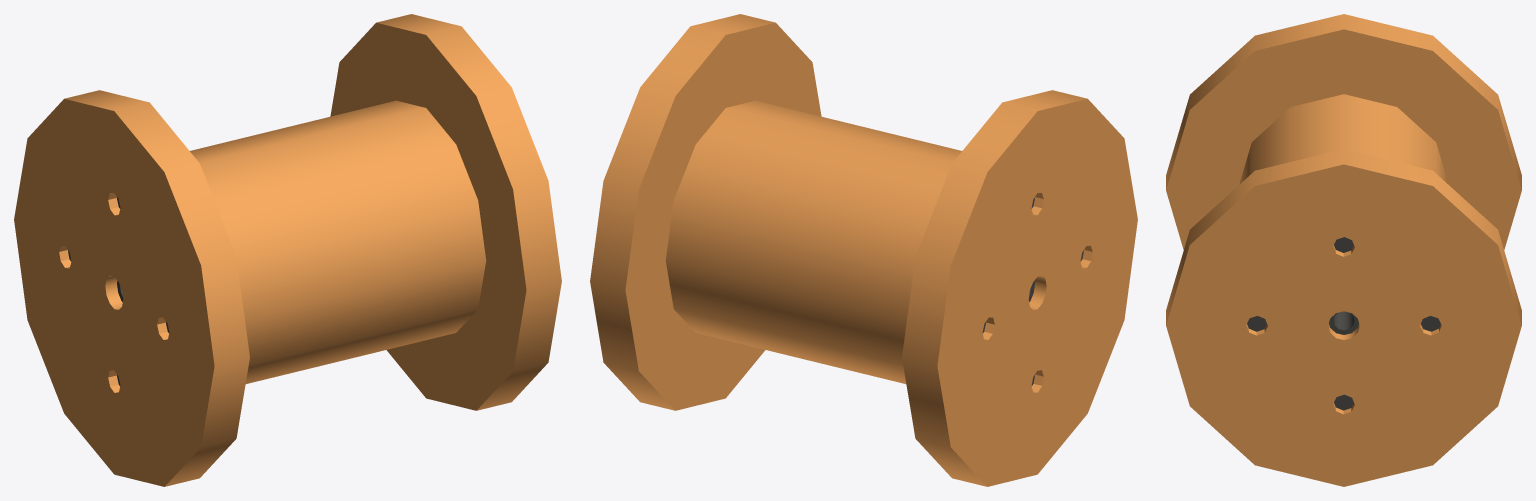
The model's file is 767de93e-4622-48ad-98fb-a67eae8b3c29.glb.
3 views of the same model, side by side, from view 1: azimuth 30°, elevation 25°; view 2: azimuth 150°, elevation 25°; view 3: azimuth 270°, elevation 25° (orthographic). The views are drawn at different scales.
Parts seen in each view (by area): view 1: CableReel; view 2: CableReel; view 3: CableReel.
Part boxes in pixels (bbox=[...]): CableReel: bbox=[14, 14, 561, 486]; CableReel: bbox=[590, 14, 1137, 486]; CableReel: bbox=[1166, 14, 1521, 486].
Size of what is drawn, in the model's own units: 2 by 2 by 2.
1 material, 1 textured.
